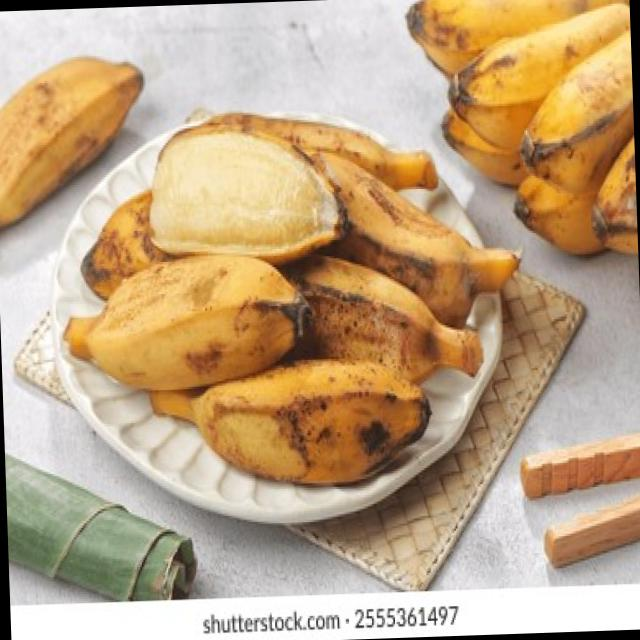banana_peel: (294, 134, 545, 322), (53, 250, 334, 401), (184, 351, 445, 493), (0, 31, 170, 246), (148, 125, 353, 263)
